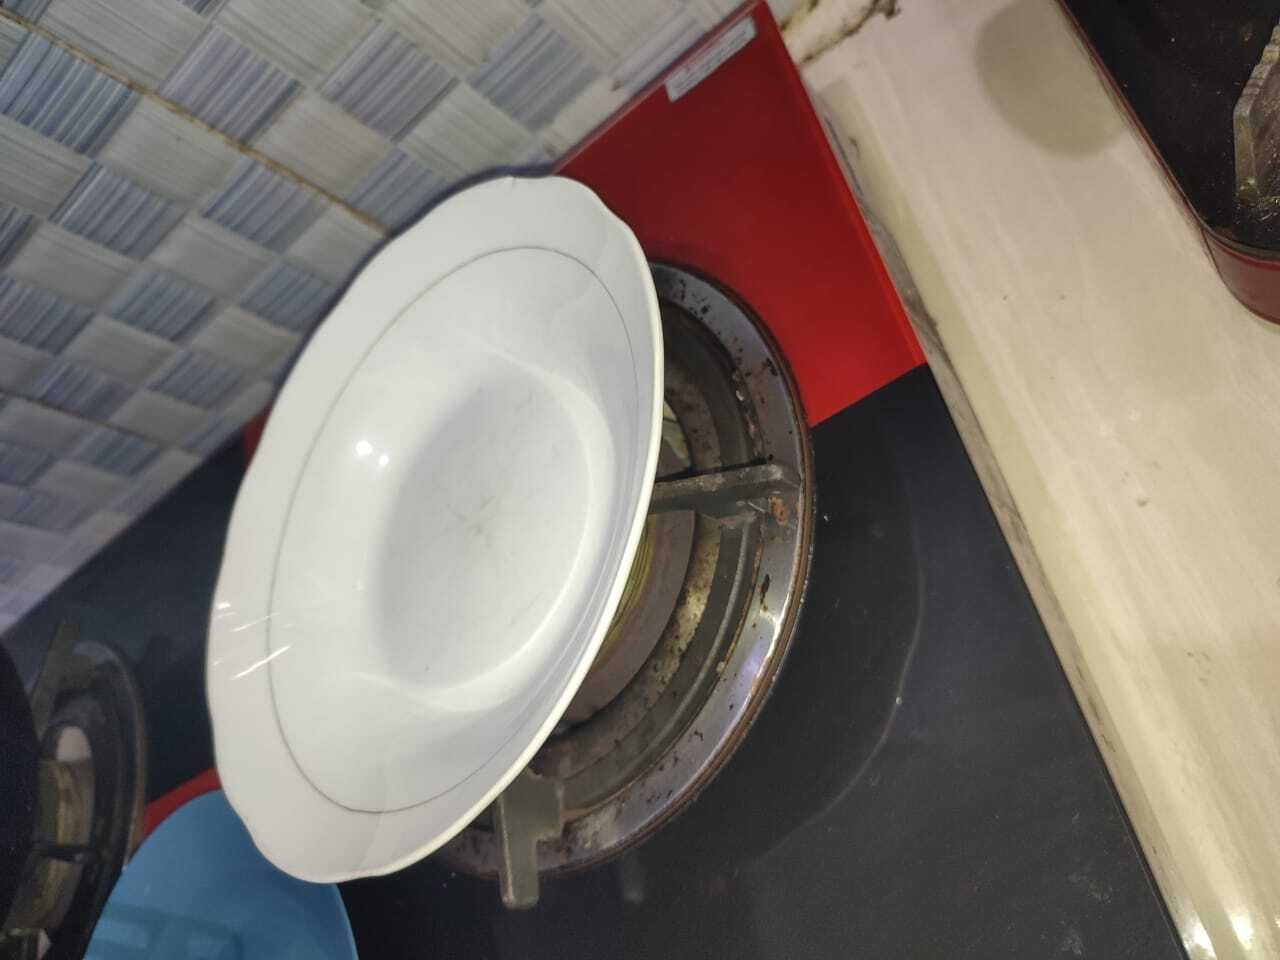piring: (199, 166, 663, 881)
